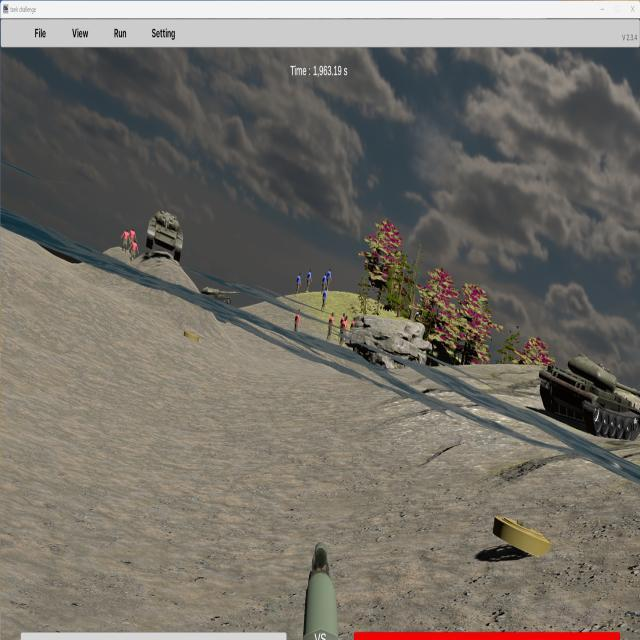Tank: (539, 355, 640, 442), (146, 208, 183, 263)
